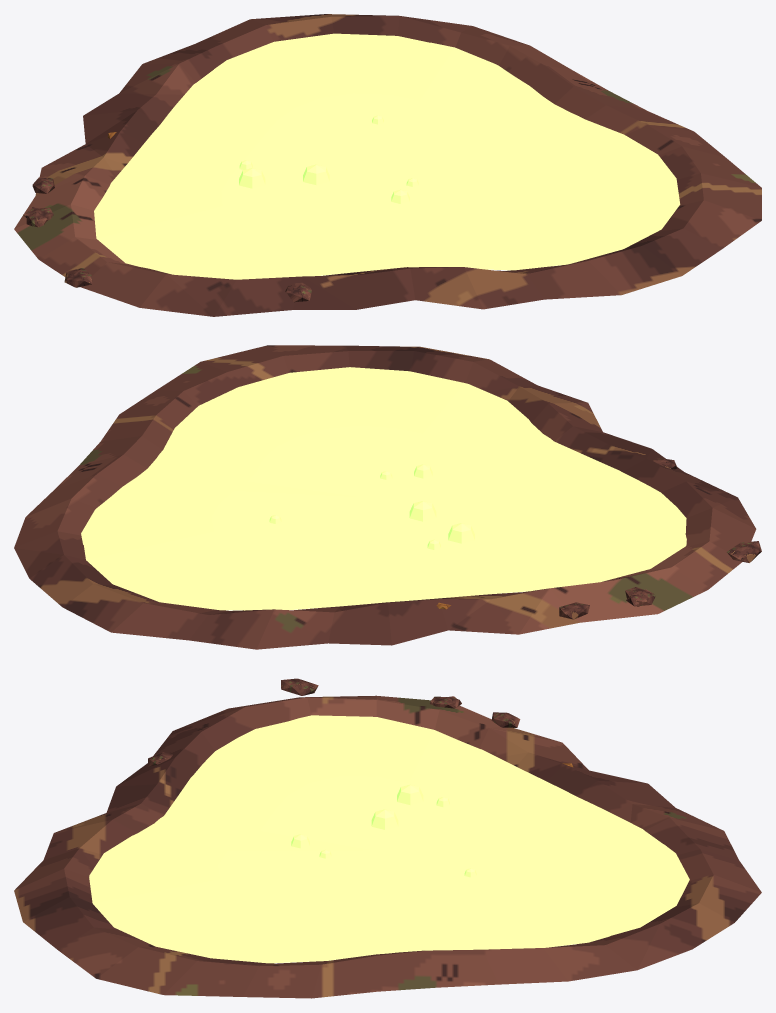
Rendered from SM_AN44_AcidPuddle.fbx.
3 renders of one model, top to bottom at view 1: azimuth 30°, elevation 25°; view 2: azimuth 150°, elevation 25°; view 3: azimuth 270°, elevation 25°, orthographic.
Visible parts, largest first — view 1: AN44a_Acid, AN44a_Earth, AN44a_Props; view 2: AN44a_Acid, AN44a_Earth, AN44a_Props; view 3: AN44a_Acid, AN44a_Earth, AN44a_Props.
Part boxes in pixels (x1,y1,x2,y2): AN44a_Acid: (94,33,680,279); AN44a_Earth: (14,14,761,316); AN44a_Props: (23,132,311,302); AN44a_Acid: (81,367,686,610); AN44a_Earth: (14,345,756,649); AN44a_Props: (436,458,761,619); AN44a_Acid: (89,715,689,963); AN44a_Earth: (14,695,761,998); AN44a_Props: (148,678,572,767).
Bounding box in the file's own units: 2.1 × 0.0729 × 2.15.
